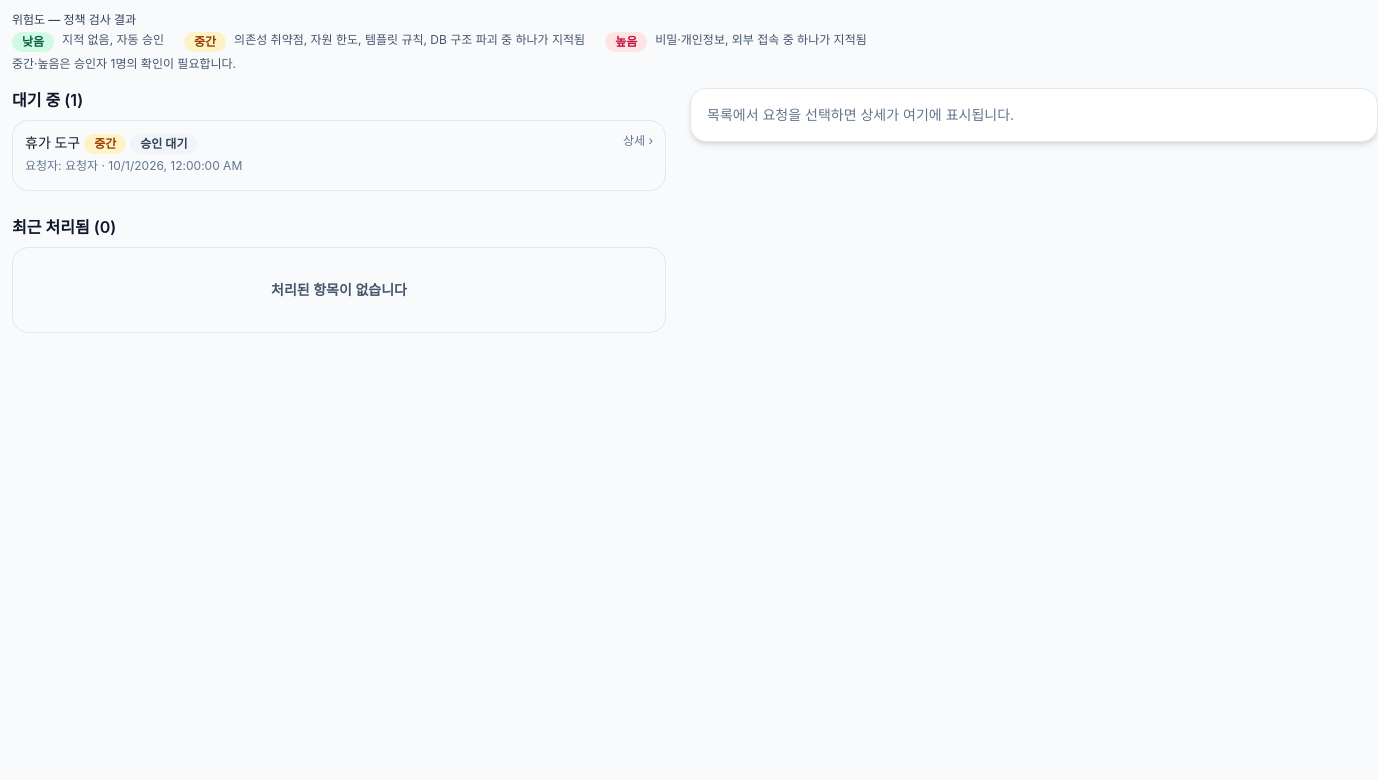
Scenario: the risk legend › calls the value 위험도 in the detail, as the legend does
This screenshot has width=1378, height=780.
Click the list item with aria-label "휴가 도구 요청 상세 보기" at (339, 156), box [12,120,666,191]
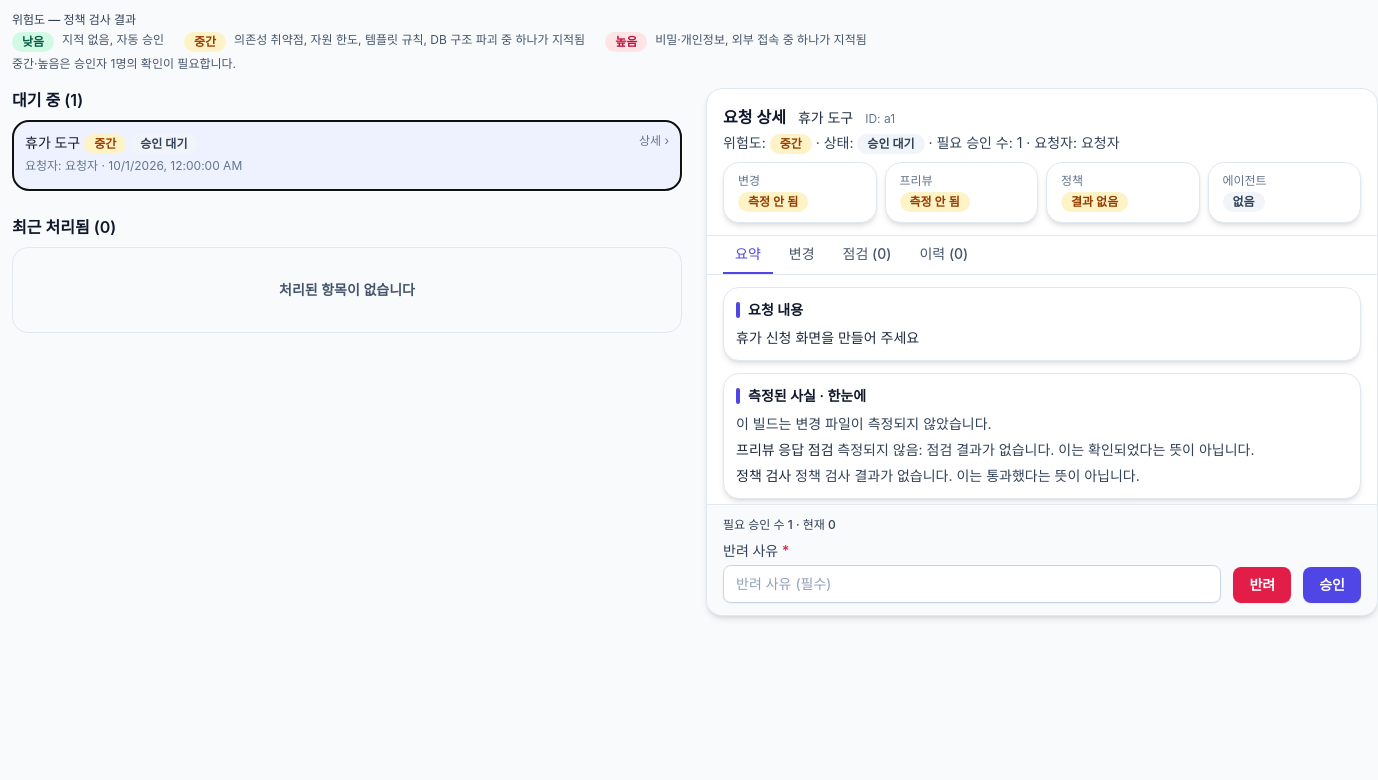
Expected: the element "요청 상세" shows "위험도:", [723,134,770,151]
